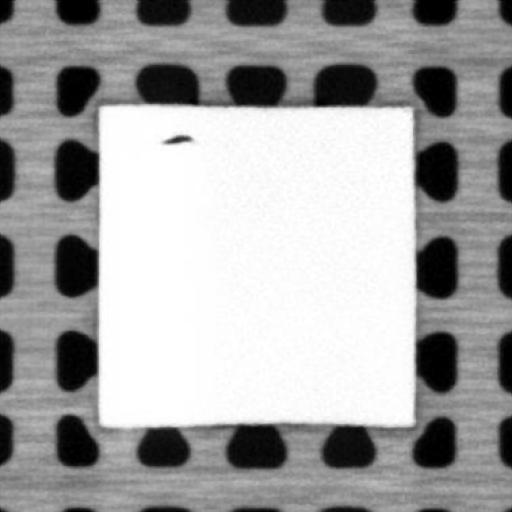DIE_INK: (160, 131, 192, 145)
